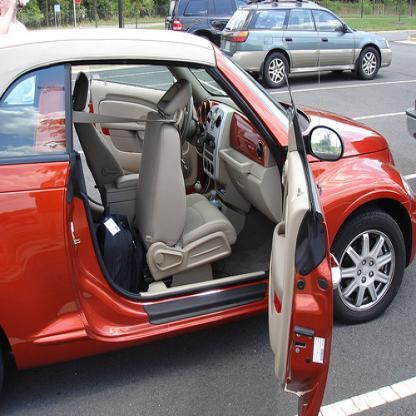car: (0, 27, 415, 412), (219, 0, 392, 90), (163, 0, 249, 49)
